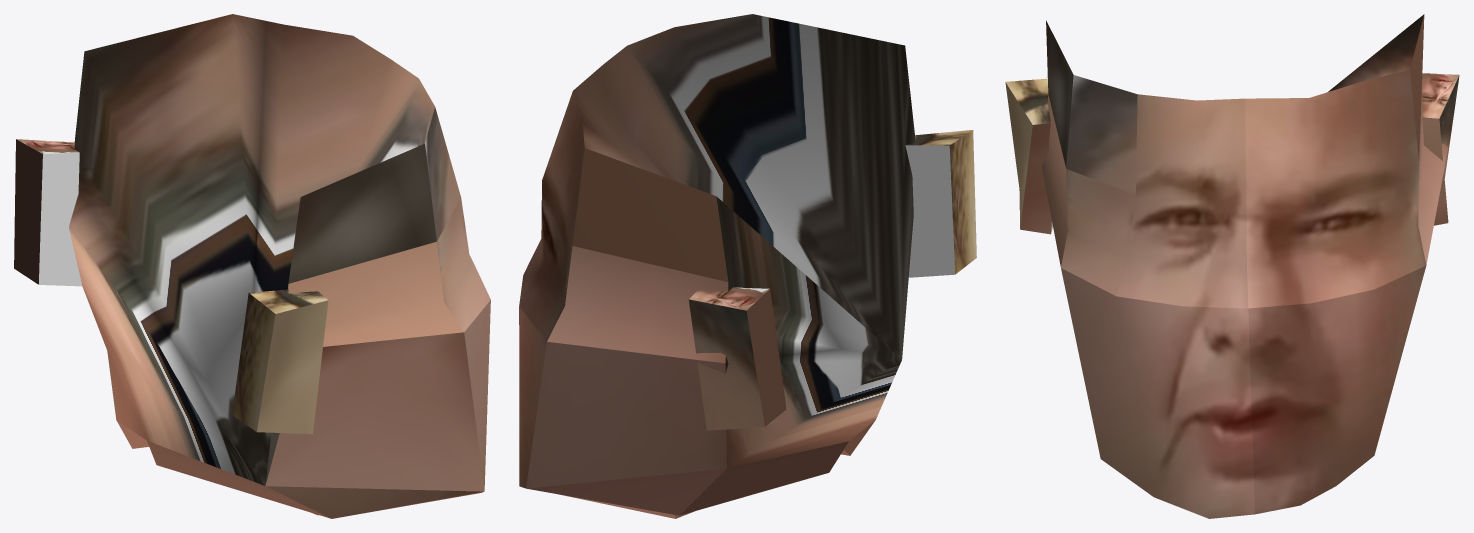
The model's file is kalal3.fbx.
3 views of the same model, side by side, from view 1: azimuth 30°, elevation 25°; view 2: azimuth 150°, elevation 25°; view 3: azimuth 270°, elevation 25° (orthographic). The views are drawn at different scales.
Parts seen in each view (by area): view 1: Cylinder; view 2: Cylinder; view 3: Cylinder.
Boxes of the visible parts, x1=… form: Cylinder: x1=14, y1=14, x2=490, y2=518; Cylinder: x1=519, y1=14, x2=976, y2=518; Cylinder: x1=1005, y1=14, x2=1459, y2=518.
Size of the model in its own units: 63.2 by 76.68 by 78.37.
1 material, 1 textured.
